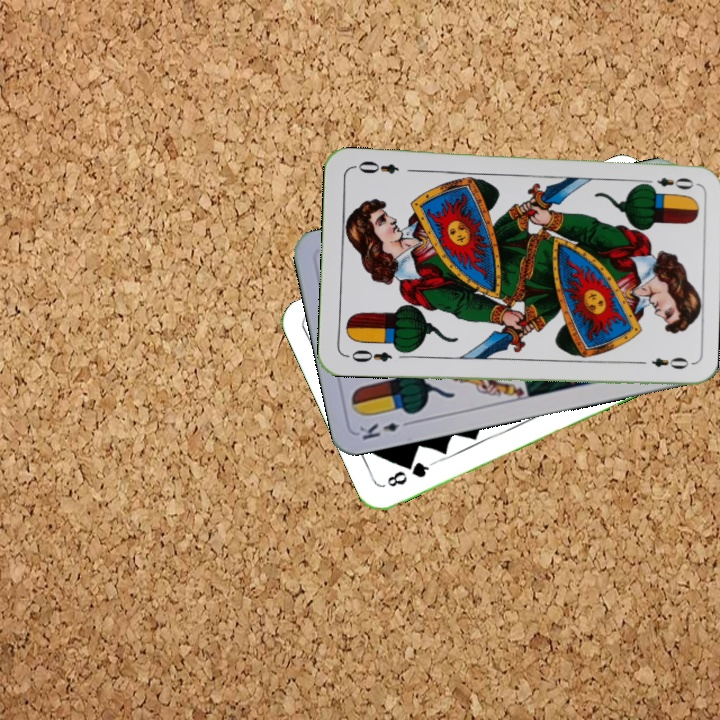EK: (355, 416, 415, 443)
EO: (639, 173, 697, 192), (342, 346, 395, 365)
G8: (382, 458, 436, 490)
